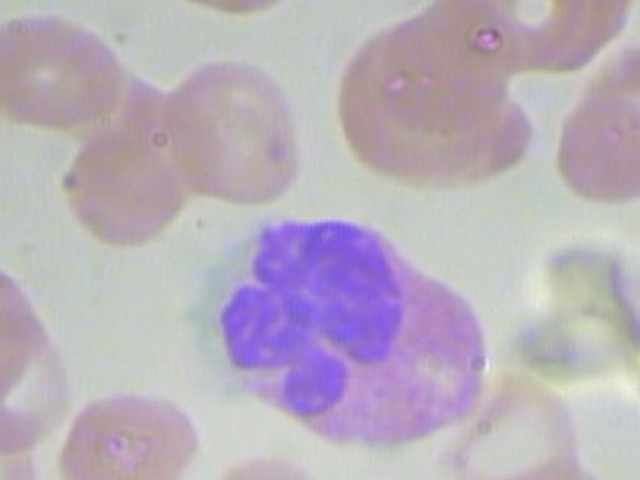RBC: (160, 51, 308, 205), (0, 7, 122, 131), (64, 389, 210, 480), (552, 88, 640, 209), (0, 317, 69, 448), (0, 256, 42, 405), (0, 395, 44, 480), (146, 0, 311, 22)
WBC: (205, 209, 497, 458)
